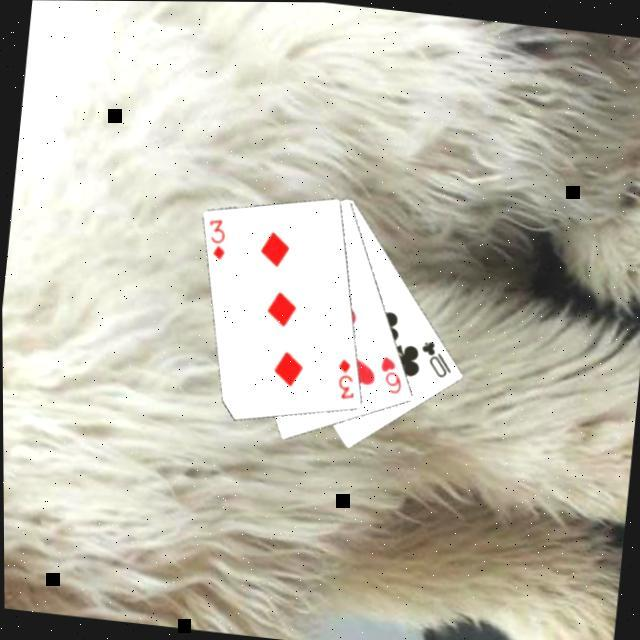10C: (413, 336, 455, 382)
3D: (330, 354, 359, 402), (200, 216, 229, 264)
6H: (373, 352, 406, 398)
